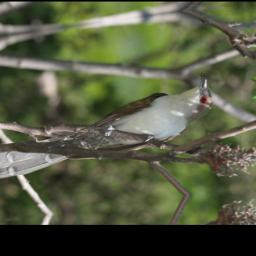Cuckoo: (0, 71, 226, 182)
